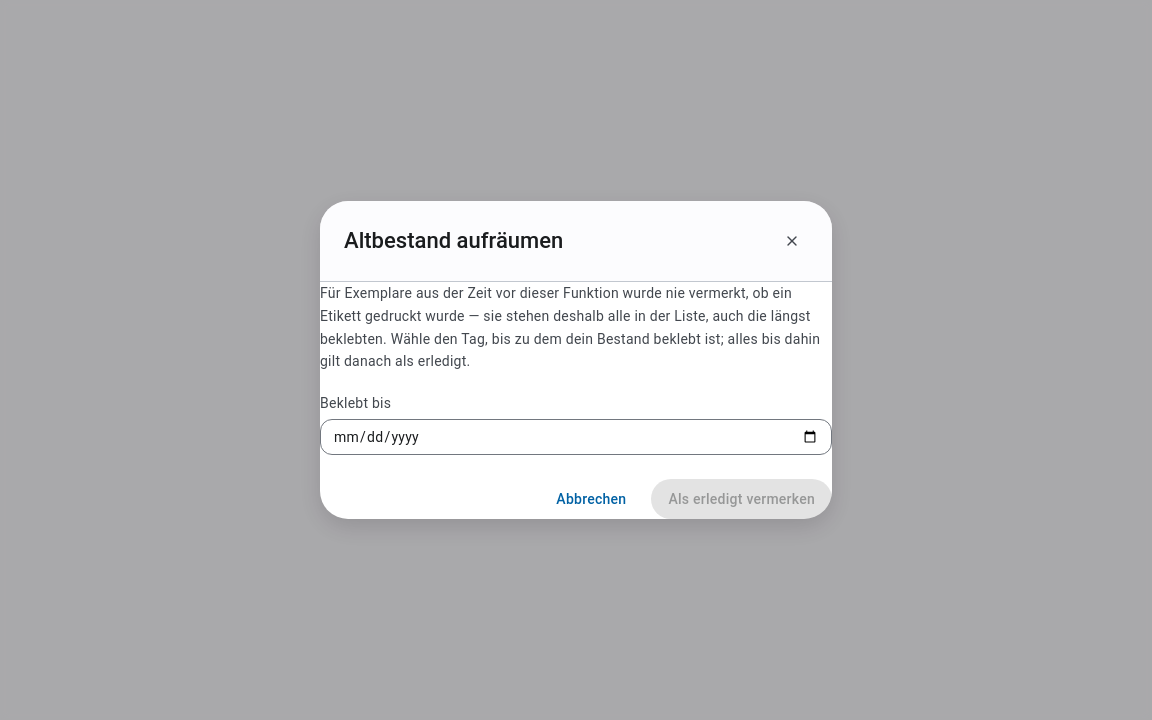
Test: AltbestandDialog: die Zahl vor dem Vermerk › nennt den Grund, wenn die Zählung scheitert, statt „kein Exemplar mehr offen"
Type "2020-01-01" into the date field labelled "Beklebt bis" at (576, 437), box [320,419,832,455]
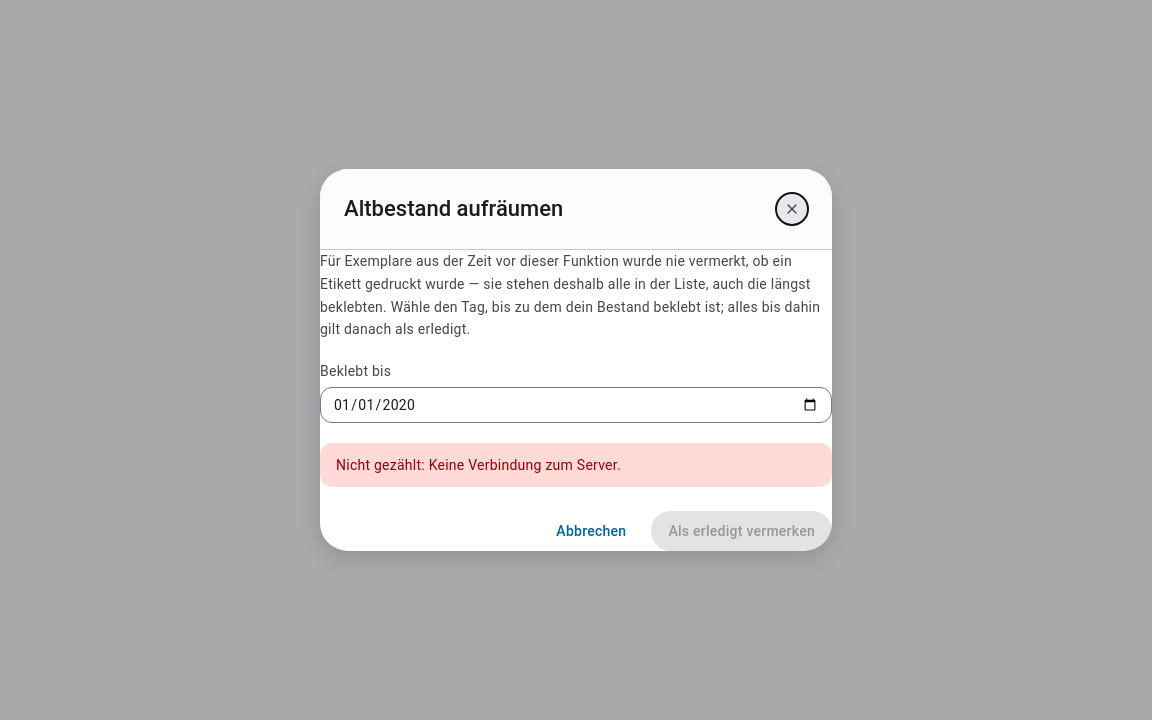
Expected: the button "Als erledigt vermerken" is disabled, [651,511,832,551]
Expected: the text "Nicht gezählt: Keine Verbindung zum Server." is shown, [320,443,832,487]
